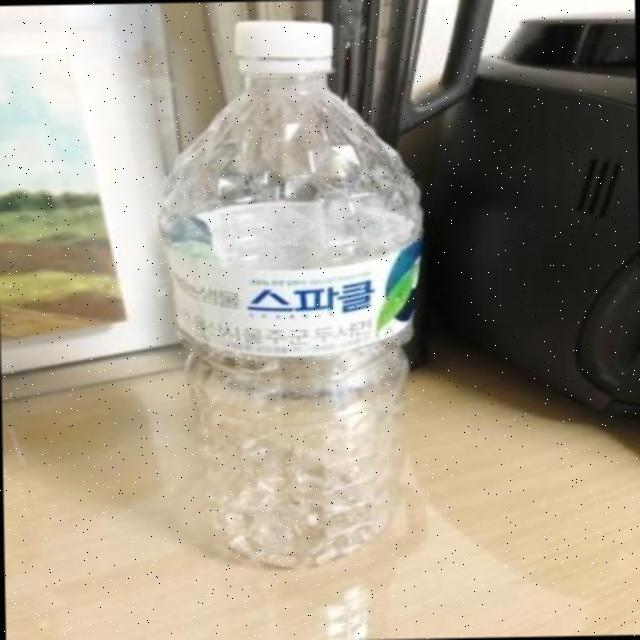bottle: (130, 3, 436, 604), (198, 0, 376, 601)
cap: (228, 15, 339, 83)
label: (175, 245, 418, 359)
